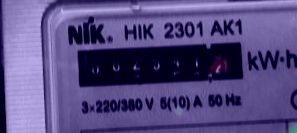0: (88, 55, 102, 76), (109, 52, 122, 73)
1: (190, 47, 202, 70)
2: (129, 50, 144, 72)
4: (170, 47, 182, 69)
5: (149, 49, 163, 73)
6: (213, 62, 224, 74)
screen: (65, 32, 256, 94)
